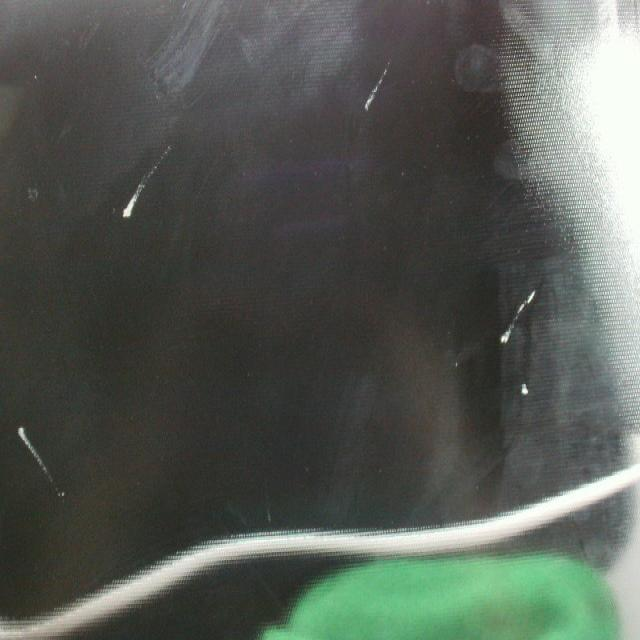scratch: (115, 137, 176, 228), (12, 418, 70, 507), (495, 280, 541, 353), (362, 47, 396, 120)
very small scratch: (514, 373, 534, 400)
